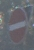No entry: (5, 6, 29, 45)
